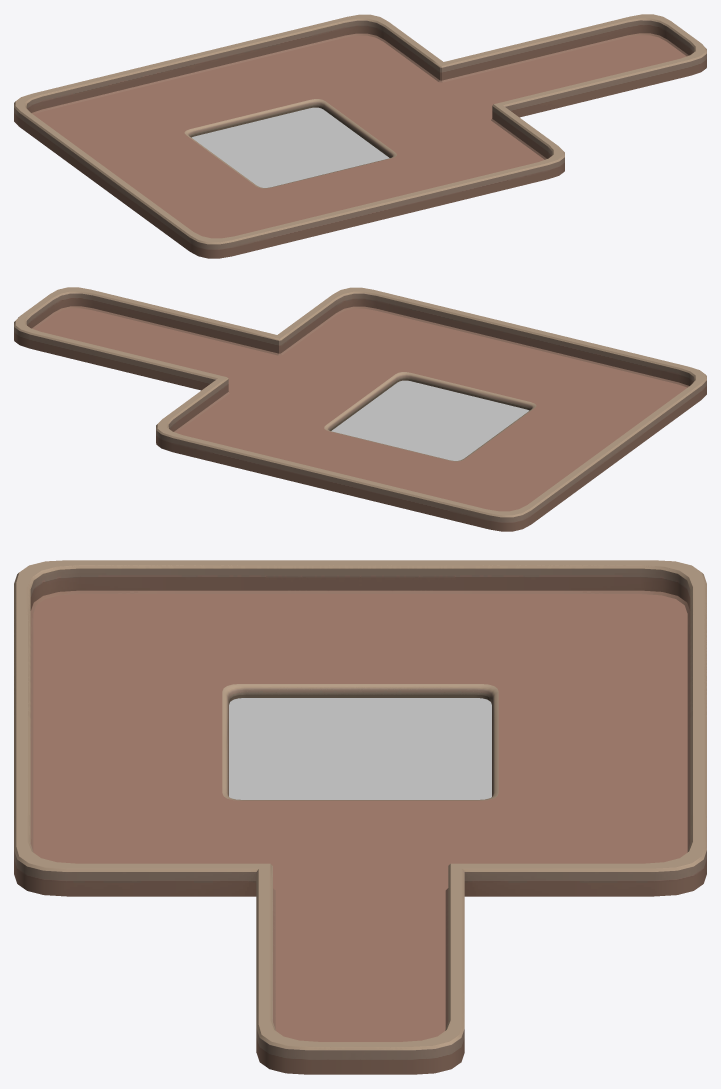
The model's file is zhandou.fbx.
3 renders of one model, top to bottom at view 1: azimuth 30°, elevation 25°; view 2: azimuth 150°, elevation 25°; view 3: azimuth 270°, elevation 25°, orthographic. The views are drawn at different scales.
Visible parts, largest first — view 1: 40-40-水, water; view 2: 40-40-水, water; view 3: 40-40-水, water.
Boxes of the visible parts, x1,y1,x2,y2 form: 40-40-水: [14, 14, 706, 258]; water: [191, 107, 389, 187]; 40-40-水: [14, 287, 706, 531]; water: [331, 380, 529, 460]; 40-40-水: [14, 560, 706, 1074]; water: [229, 698, 491, 799].
Size of the model in its own units: 65.95 by 4.3 by 39.51.
2 materials, 1 textured.
